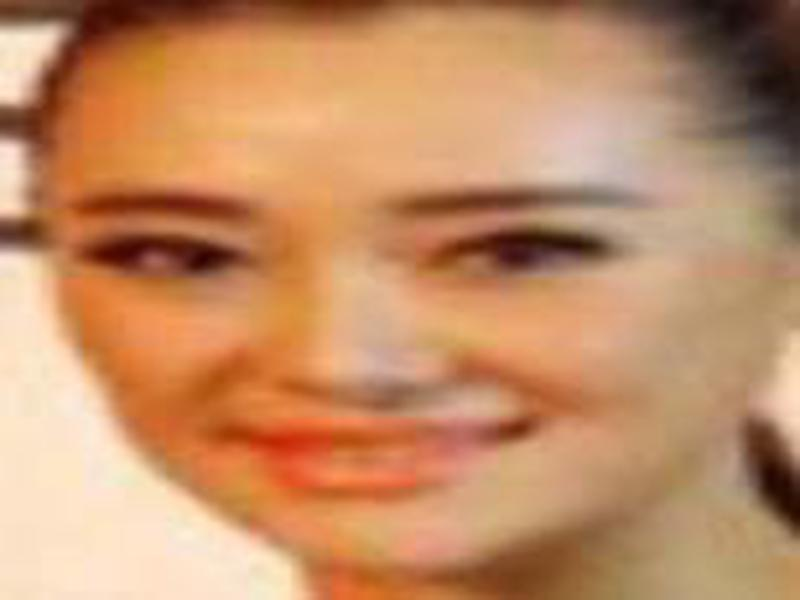without_mask: (49, 70, 757, 570)
